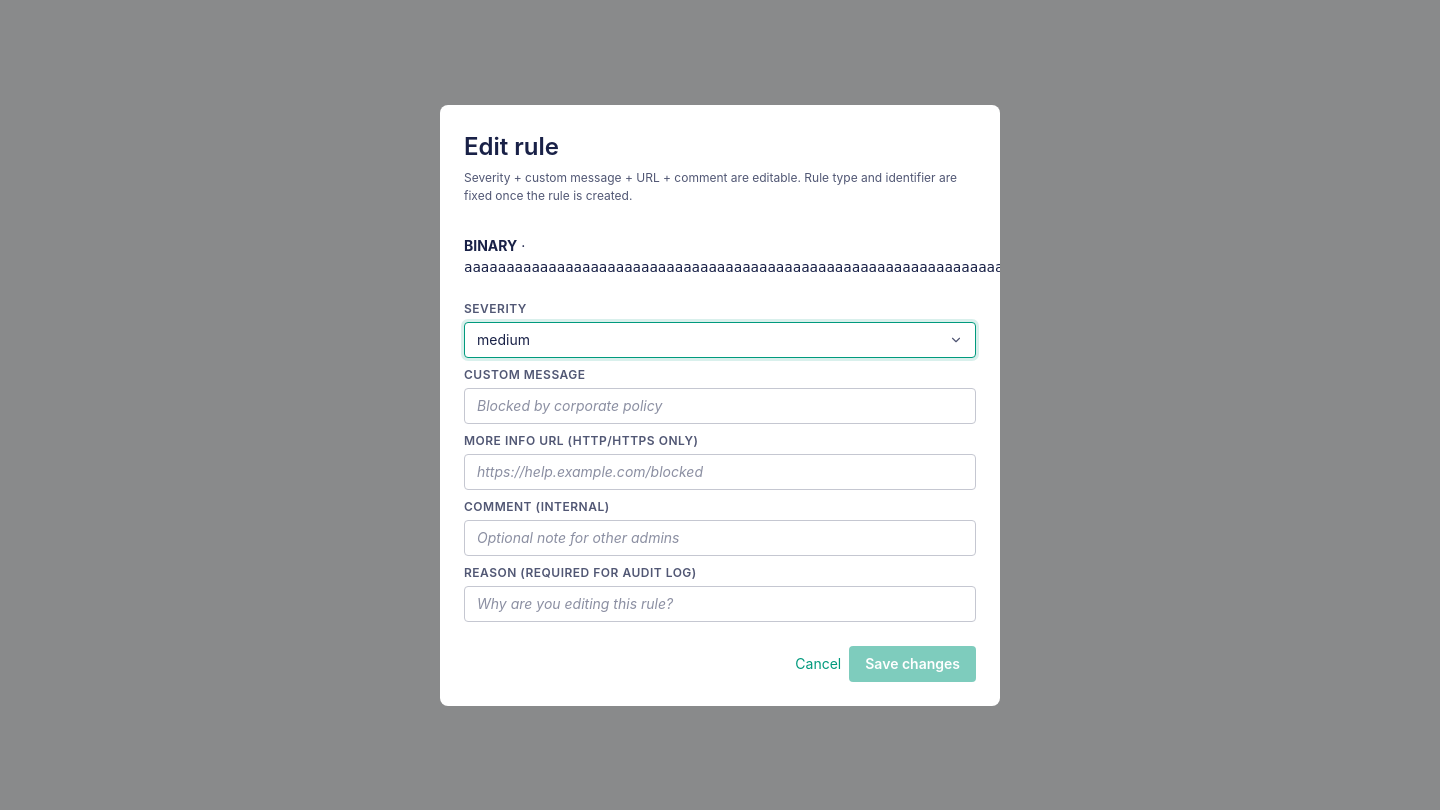
Test: EditRuleModal › rejects a non-http(s) More info URL client-side
The width and height of the screenshot is (1440, 810).
Type "javascript:alert(1)" into the field labelled "More info URL (http/https only)".
click(720, 472); type("javascript:alert(1)")  # box [464, 454, 976, 490]
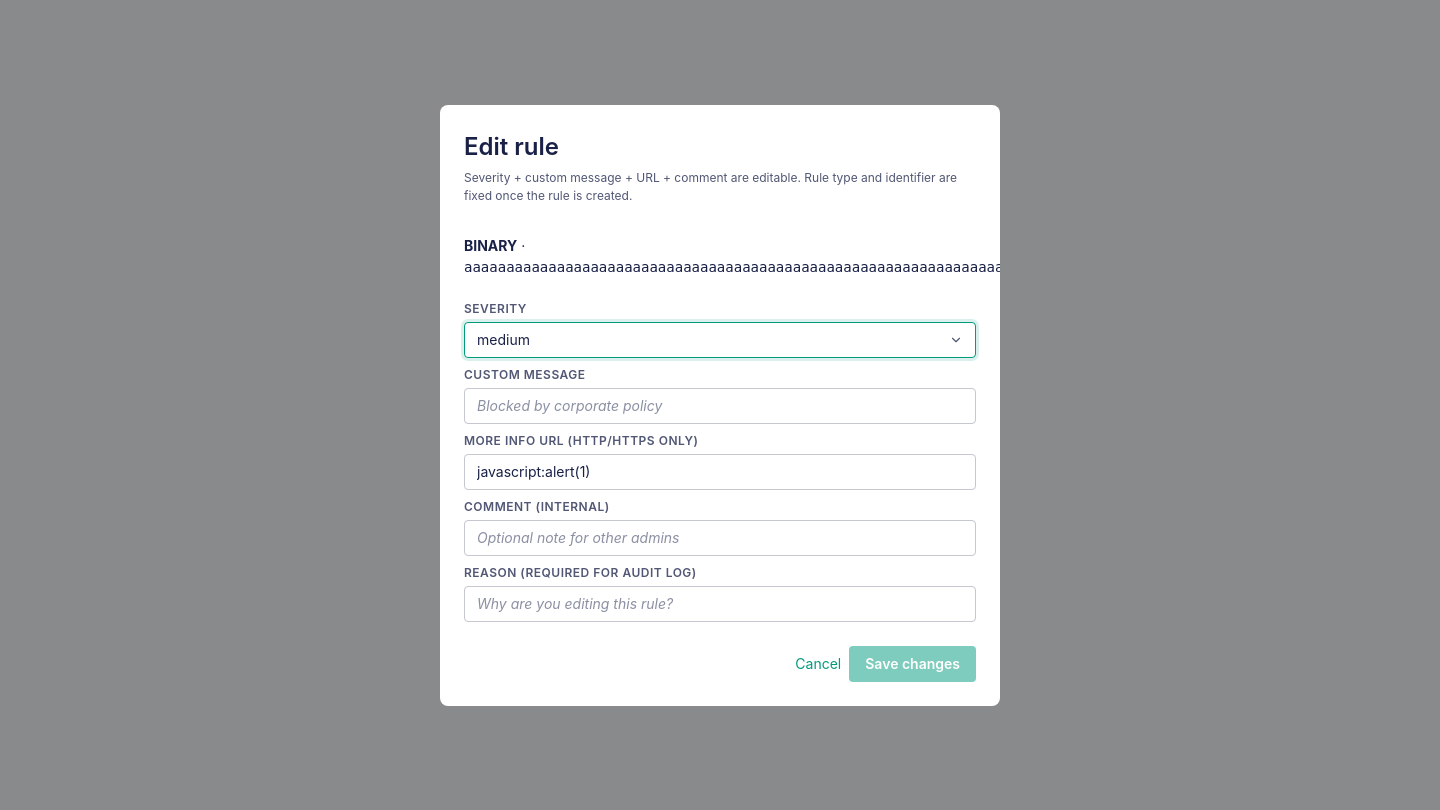
Type "trying bad URL" into the field labelled "Reason (required for audit log)".
click(720, 604); type("trying bad URL")  # box [464, 586, 976, 622]
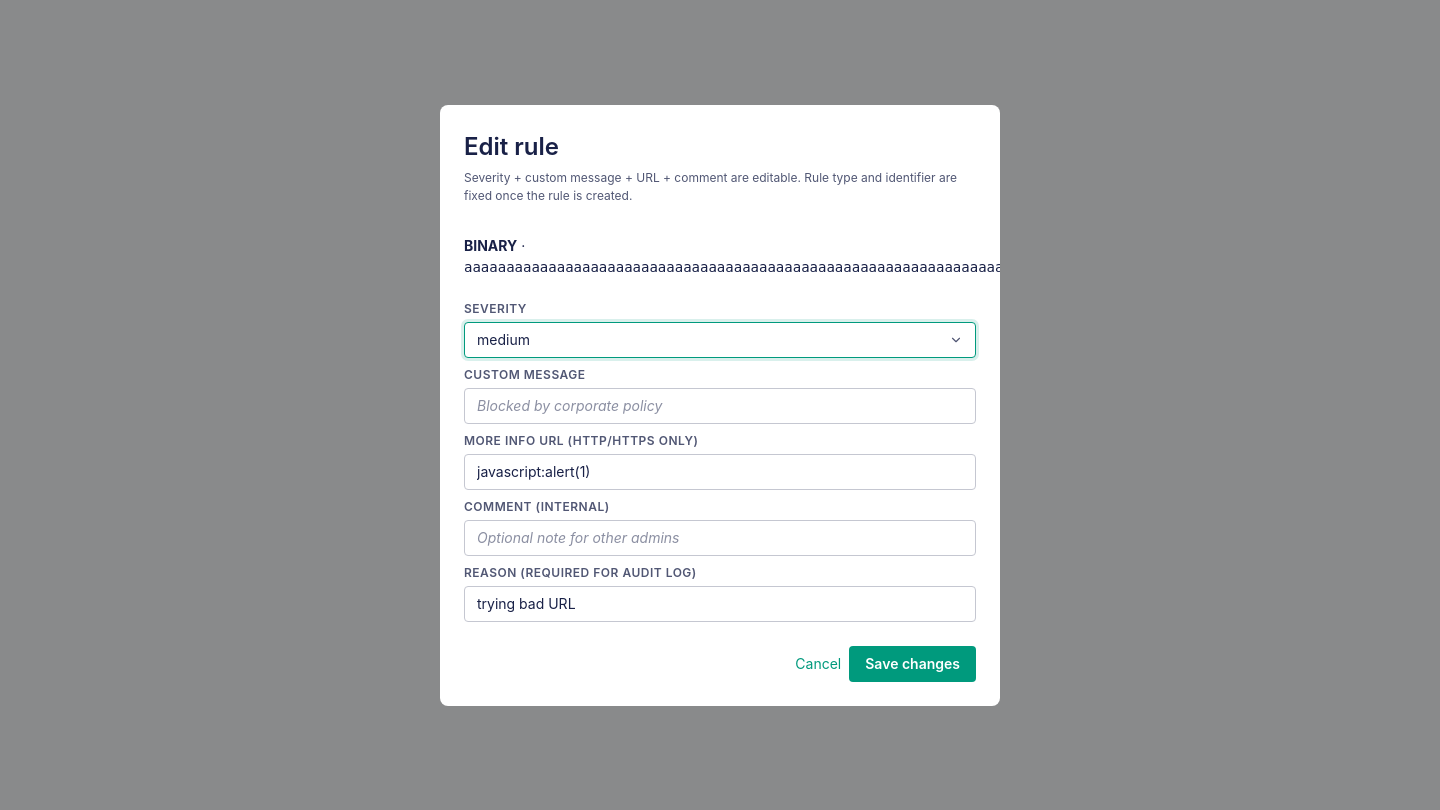
Click the button "Save changes".
click(913, 664)  # box [849, 646, 976, 682]
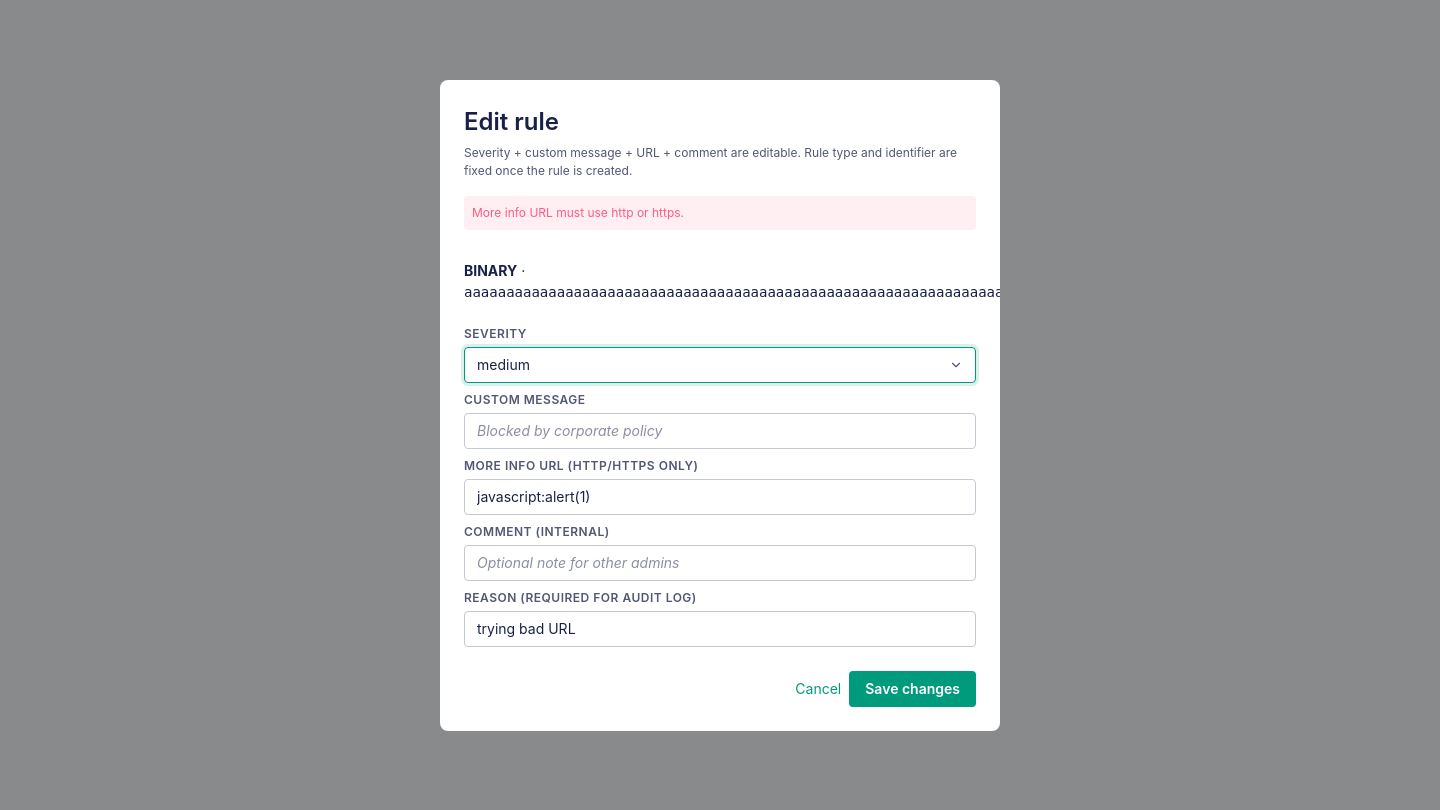
expect the message shows "http or https": met, box [472, 204, 684, 220]
